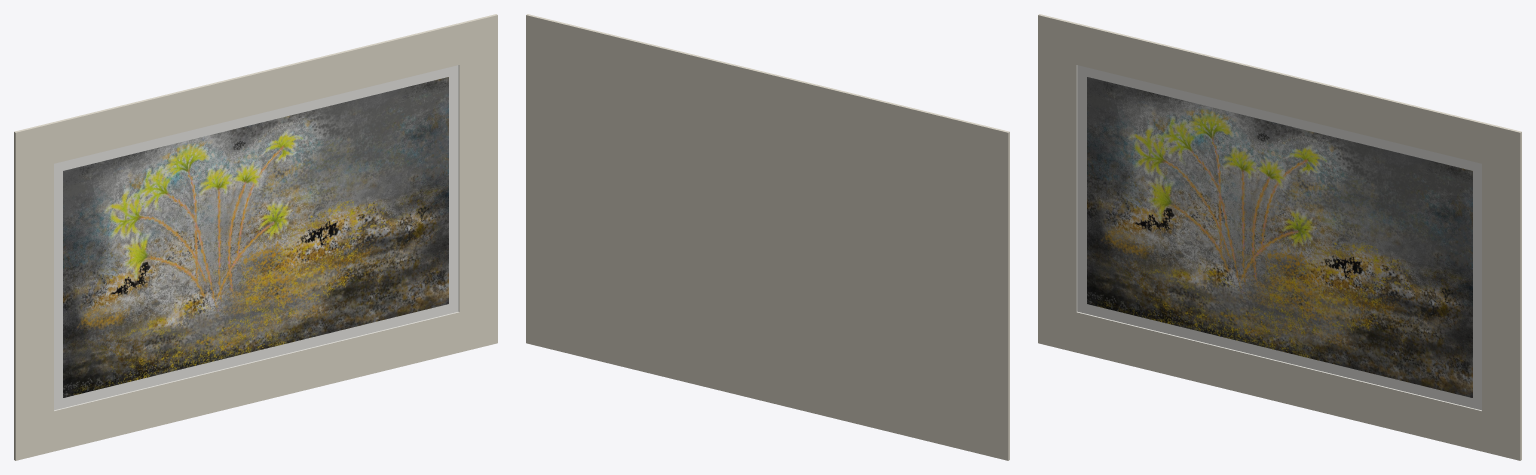
The model's file is hz072_moyen_passe-partout.glb.
The picture shows the model from 3 angles, left to right: view 1: azimuth 30°, elevation 25°; view 2: azimuth 150°, elevation 25°; view 3: azimuth 330°, elevation 25°; orthographic projection.
Visible parts, largest first — view 1: hz072_moyen_passe-partout; view 2: hz072_moyen_passe-partout; view 3: hz072_moyen_passe-partout.
Boxes of the visible parts, x1=… form: hz072_moyen_passe-partout: x1=14, y1=14, x2=497, y2=460; hz072_moyen_passe-partout: x1=526, y1=14, x2=1009, y2=460; hz072_moyen_passe-partout: x1=1038, y1=14, x2=1521, y2=460.
Size of the model in its own units: 1 by 0.65 by 0.0055.
4 materials, 1 textured.
